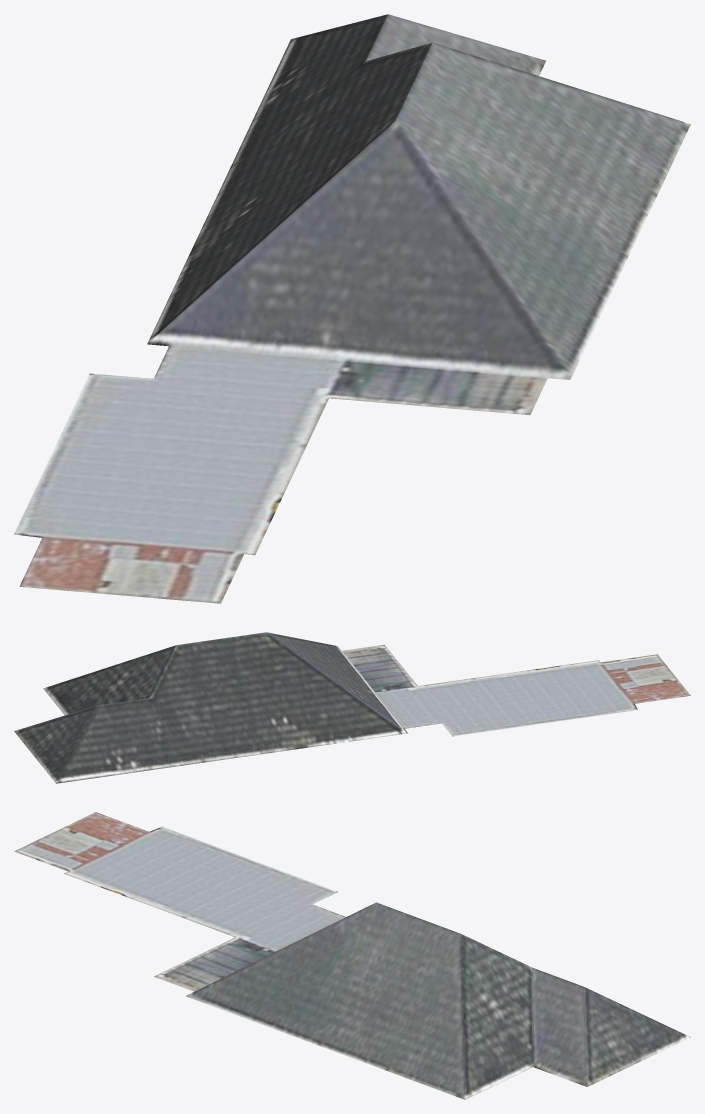
The model's file is CG10_500_043071_0018_roof.obj.
3 renders of one model, top to bottom at view 1: azimuth 30°, elevation 25°; view 2: azimuth 150°, elevation 25°; view 3: azimuth 270°, elevation 25°, orthographic. The views are drawn at different scales.
Visible parts, largest first — view 1: CG10_500_043071_0018_roof; view 2: CG10_500_043071_0018_roof; view 3: CG10_500_043071_0018_roof.
Boxes of the visible parts, <box> form: CG10_500_043071_0018_roof: <box>14,14,690,603</box>; CG10_500_043071_0018_roof: <box>14,632,690,783</box>; CG10_500_043071_0018_roof: <box>14,812,690,1099</box>.
Bounding box in the file's own units: 486 × 70 × 483.
1 material, 1 textured.
